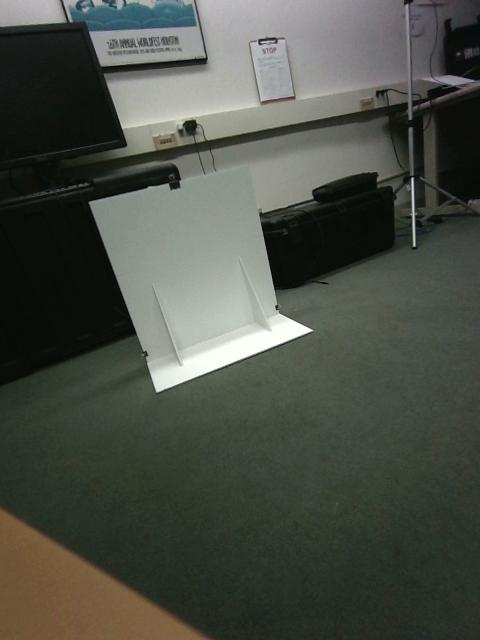block: (312, 340, 373, 421)
